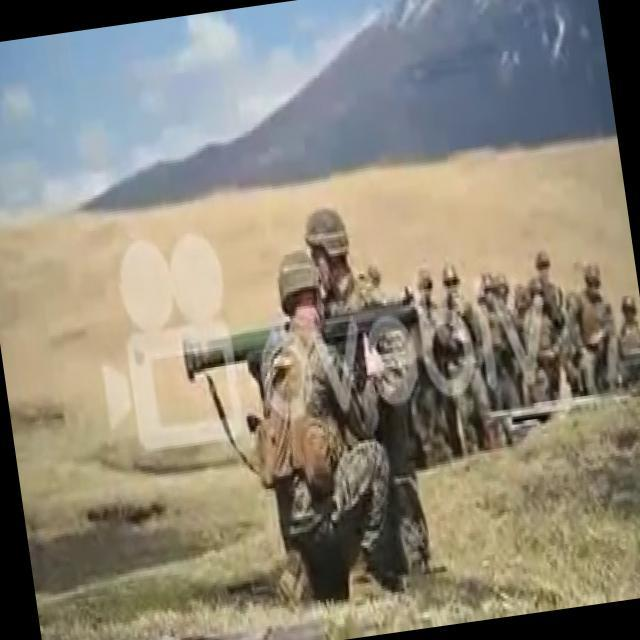rocket: (175, 288, 418, 379)
